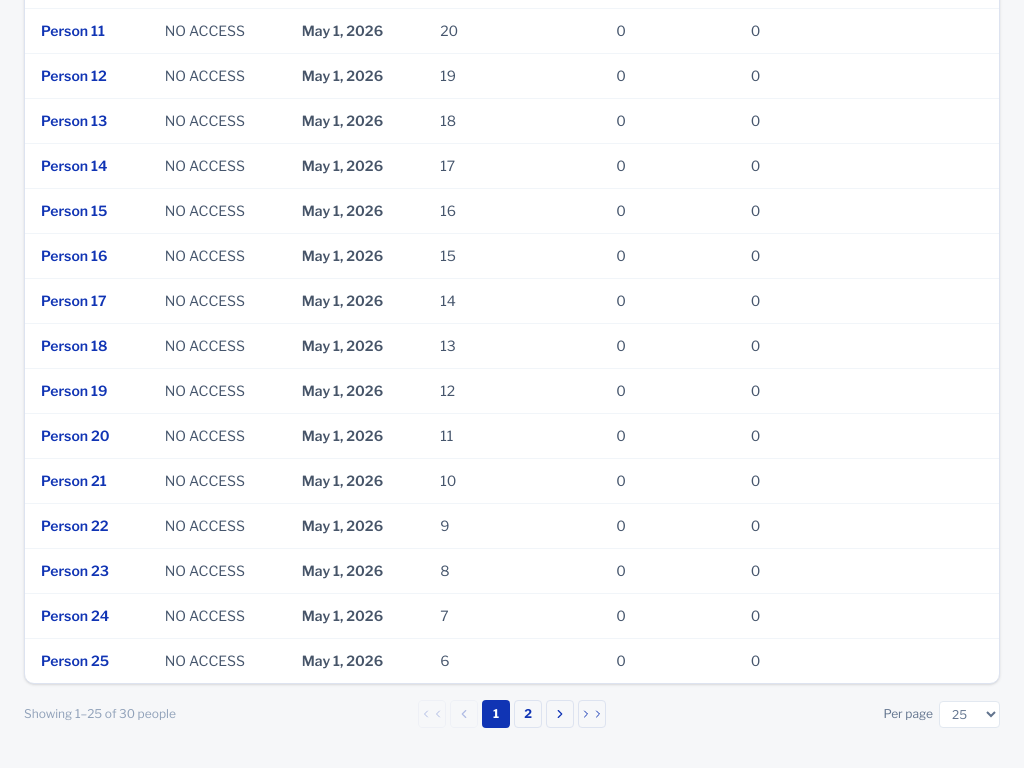
Scenario: UsageTable pagination › returns to page one when a filter narrows the rows underneath it
(page scrolled)
Click the button named "Next page" at (560, 714), box [546,700,574,728]
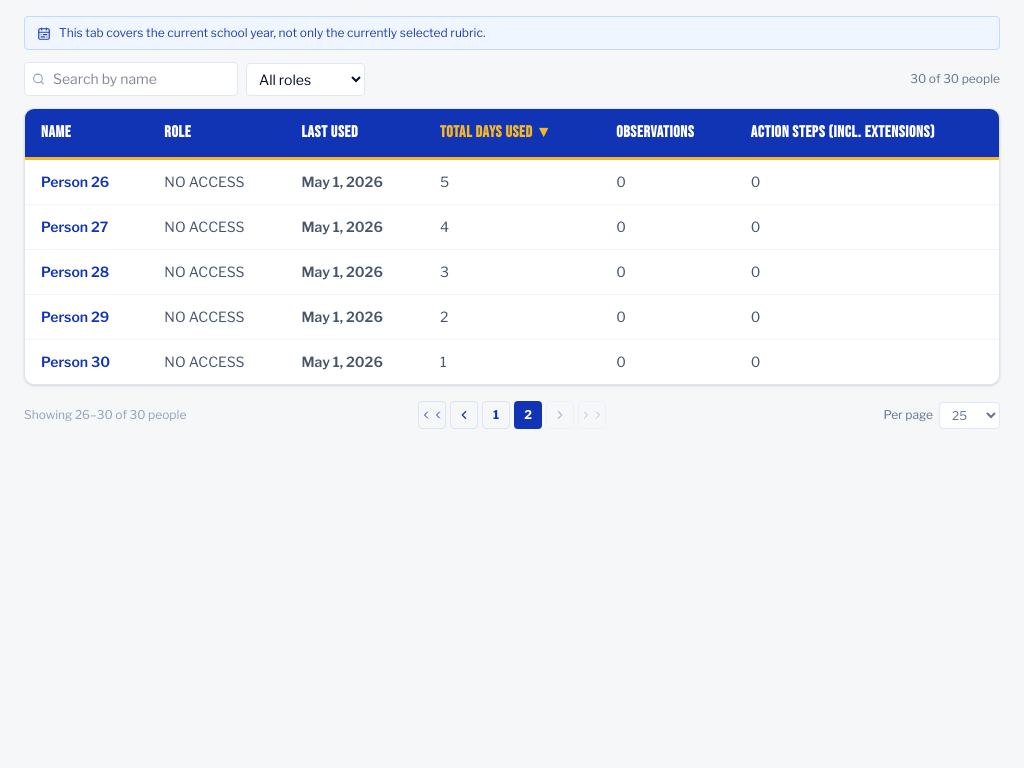
Result: the text "Person 26" is shown at [25,160,148,204]
Select "COACH" in the dropdown named "Filter by role" at (306, 79), box [246,62,365,96]
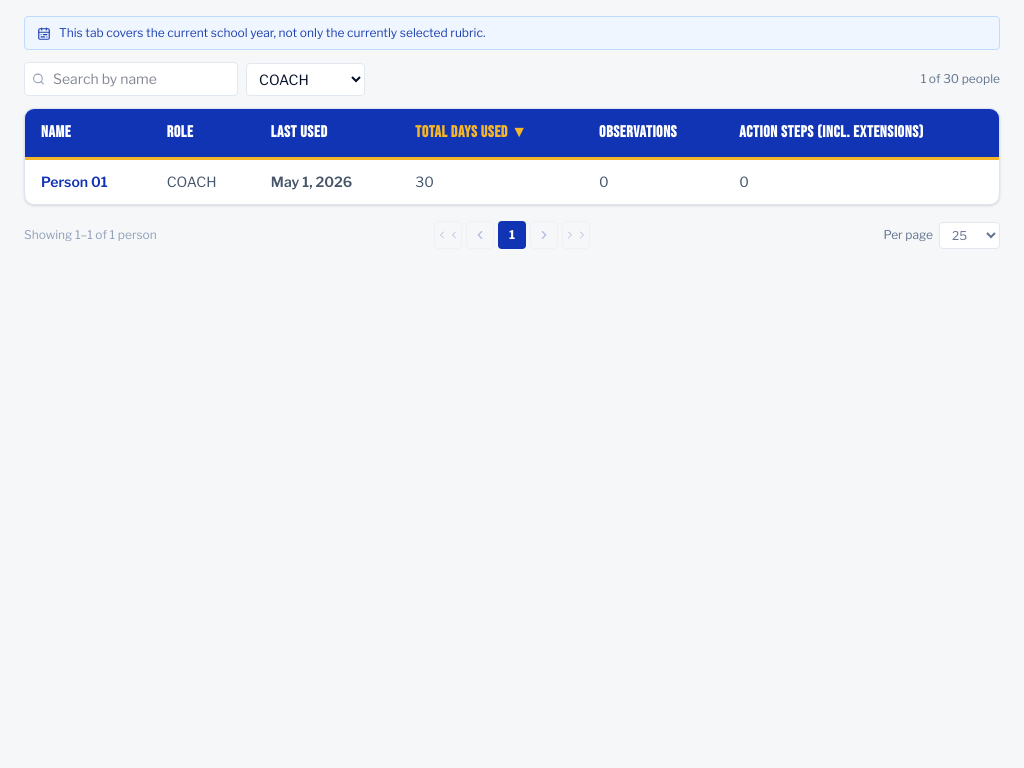
Result: the text "Person 01" is shown at [25,160,151,204]
Result: the text "Showing 1–1 of 1 person" is shown at [24,227,157,242]
